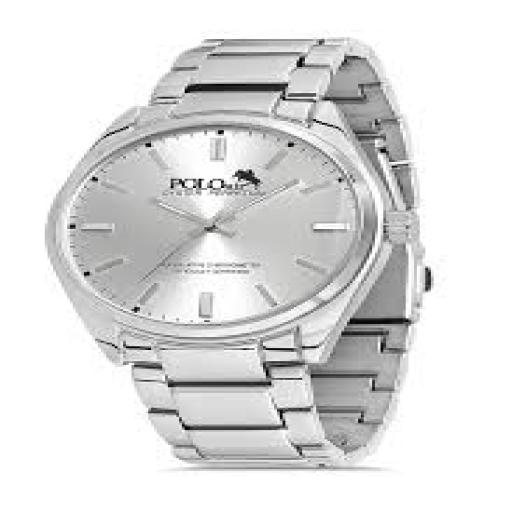KolSaati: (22, 16, 476, 482)
